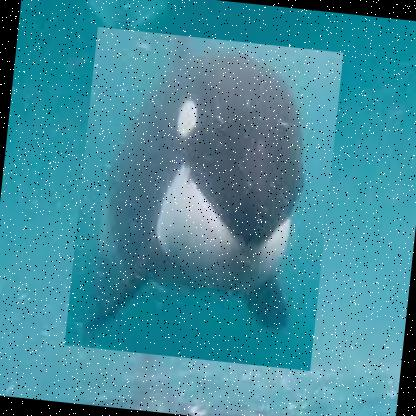killer_whale: (62, 25, 342, 370)
